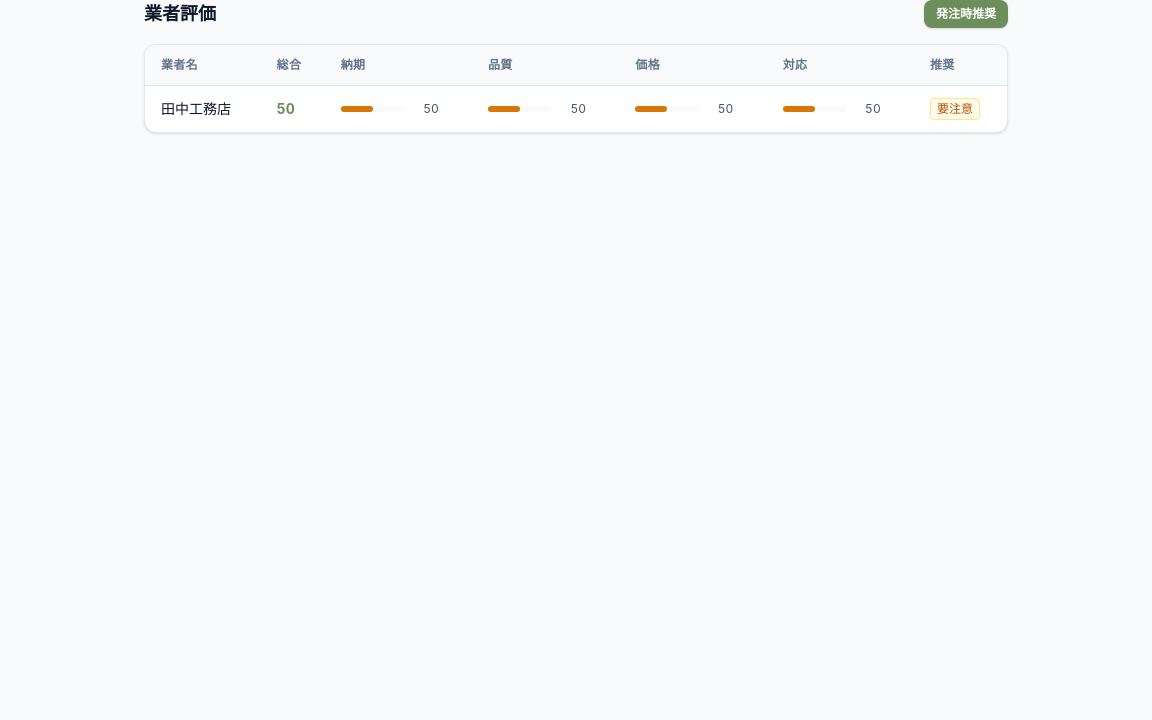
Test case: VendorRatingPage › closing detail panel via 閉じる button works
Click the text "田中工務店": x=203, y=109 [145,86,261,132]
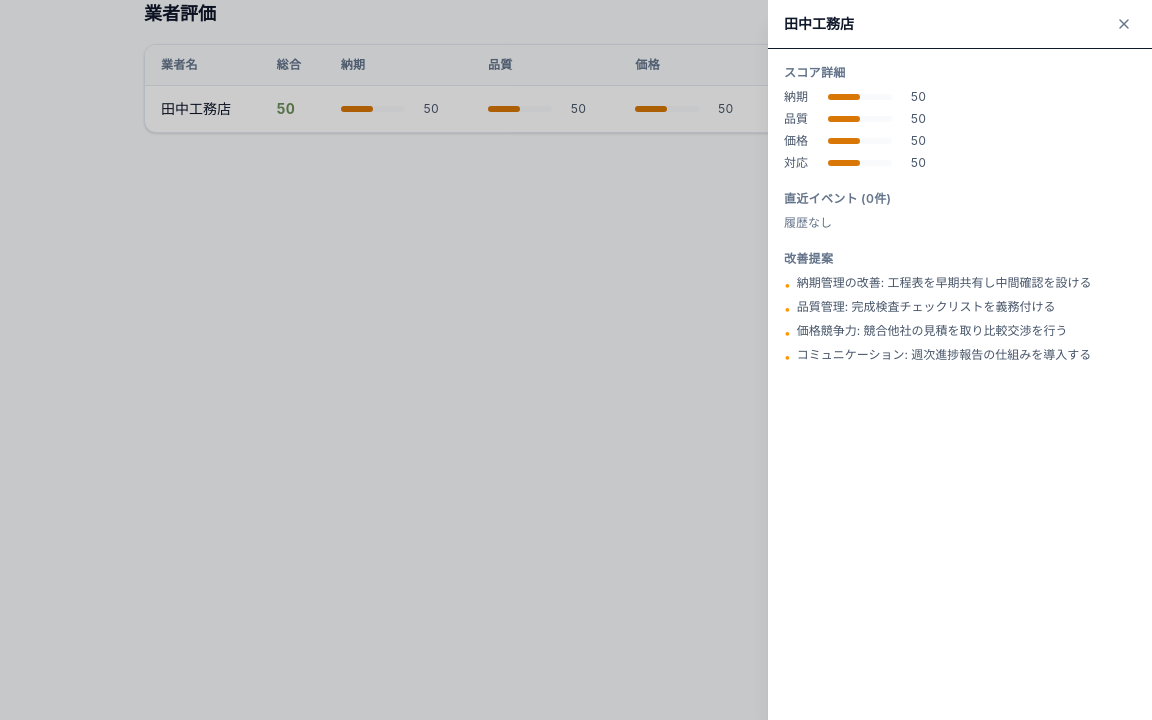
Click the button named "閉じる": x=1124, y=24 [1112,12,1136,36]
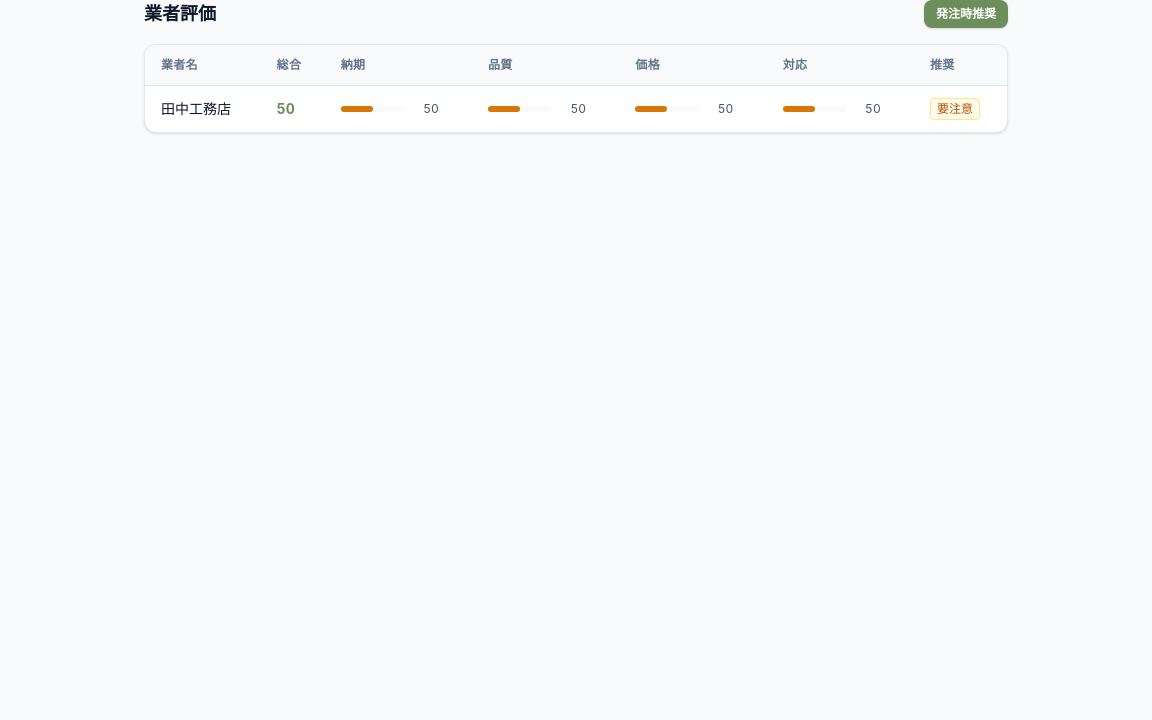
expect the dialog is gone: met
